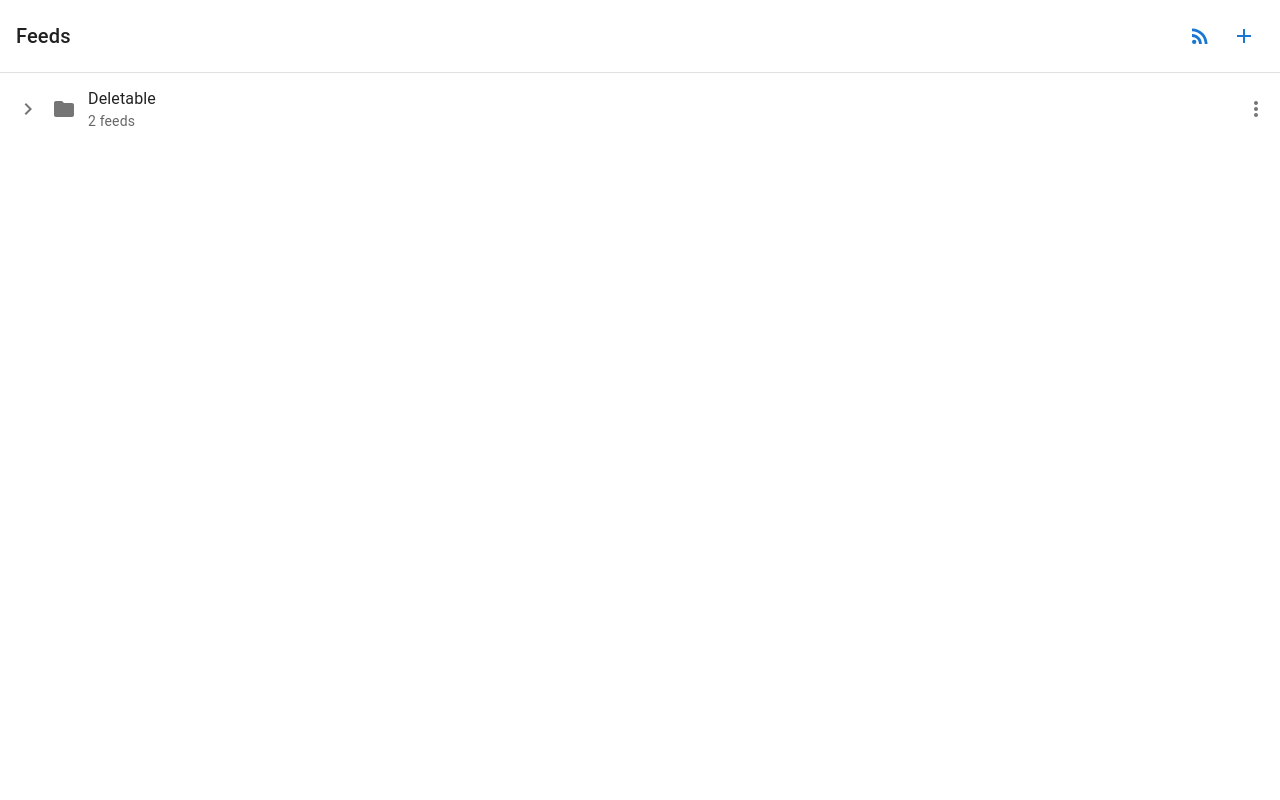
CategoryList › category deletion › should show confirmation dialog when clicking delete
Click the button named "category options".
click(1256, 109)  # box 1236,89 -> 1276,129
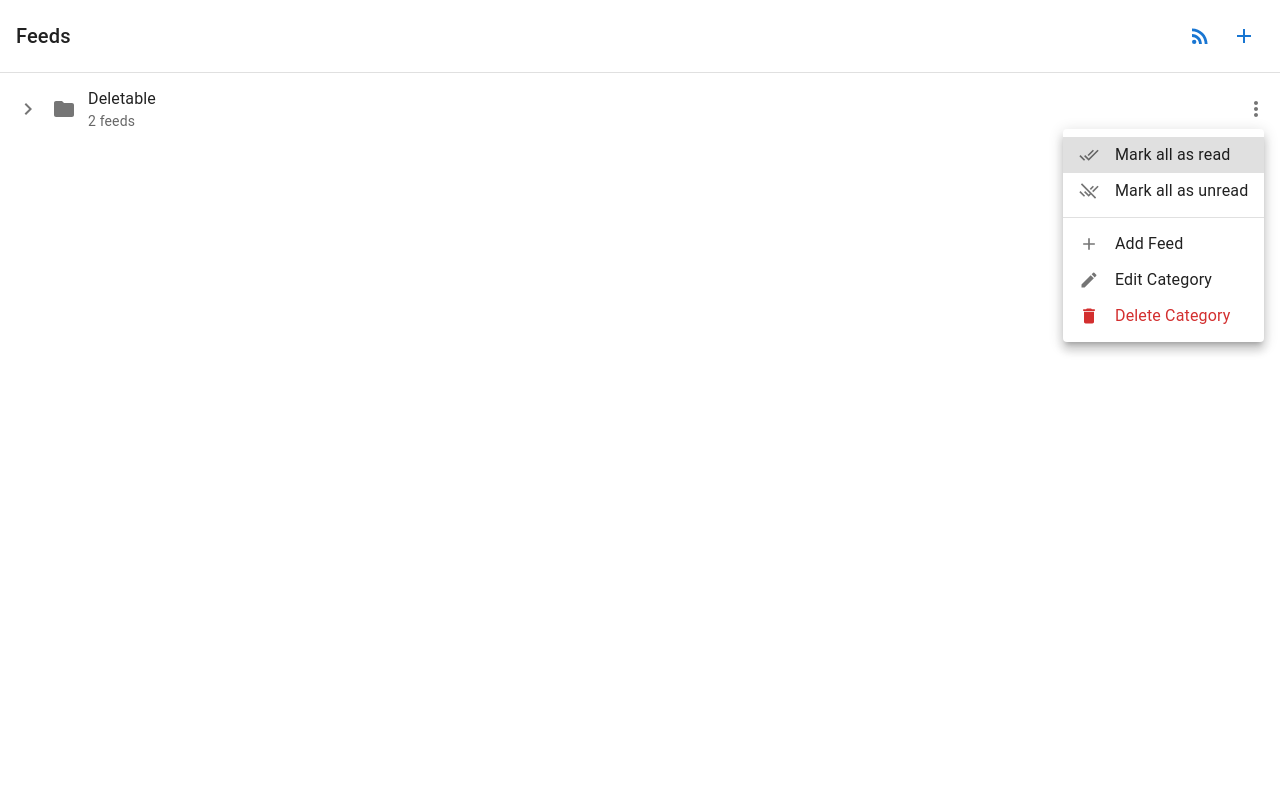
Click the menu item "Delete Category".
click(1155, 316)  # box 1079,306 -> 1230,326
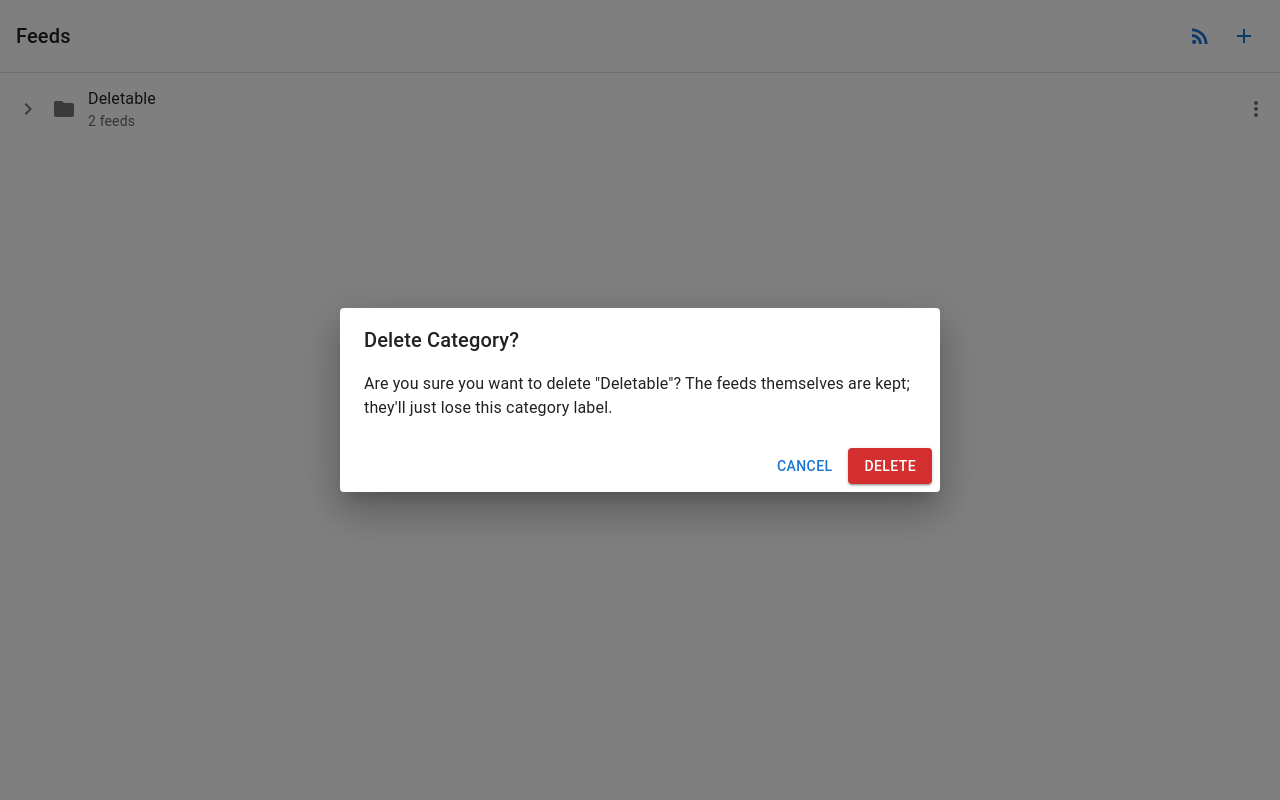
Expected: the heading "Delete Category?" is shown, 364,328 -> 519,352
